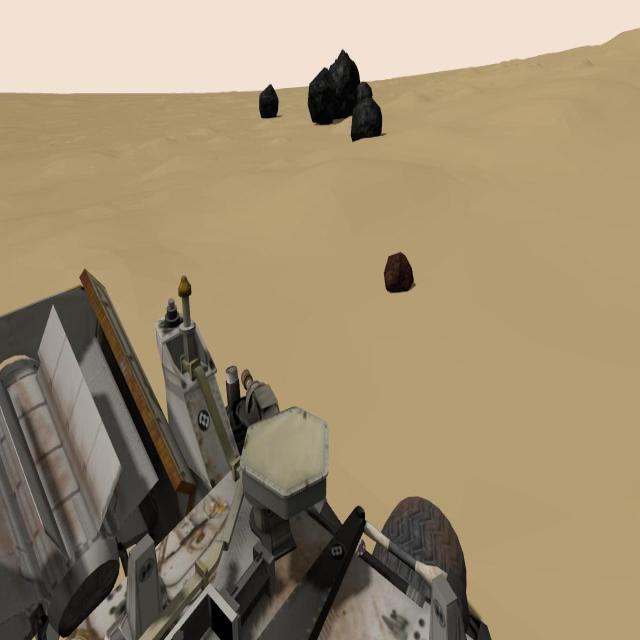rock: (328, 49, 359, 118), (308, 66, 336, 124), (351, 97, 382, 141), (384, 252, 414, 291), (258, 84, 278, 117), (355, 82, 373, 104)
